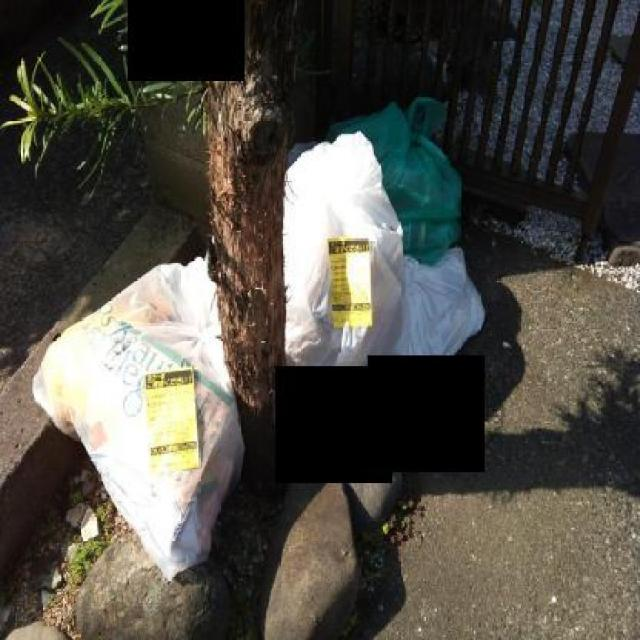plastic bag: (31, 234, 244, 581), (283, 131, 406, 409), (331, 99, 462, 266), (383, 242, 489, 378)
